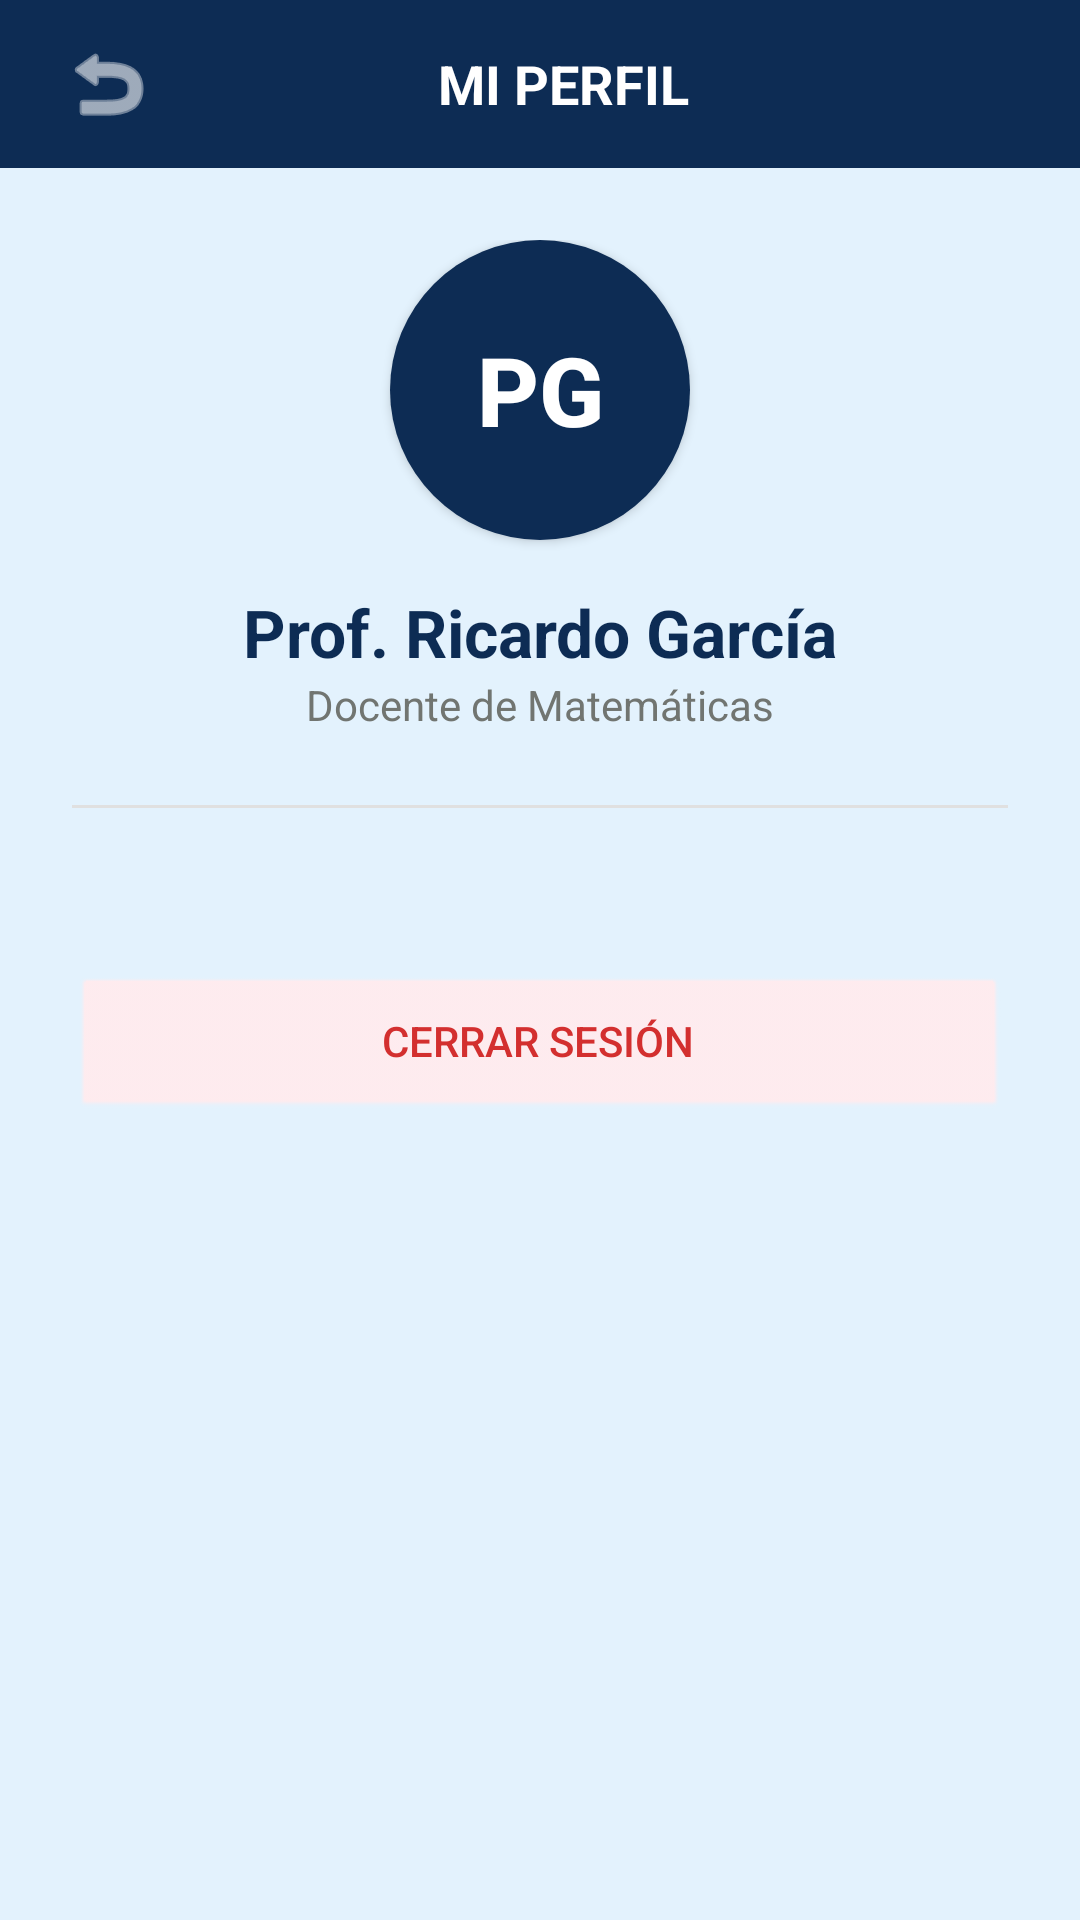

Icon bounding boxes for this 1080px×1920px phone screenshot, format (x1, y1, x2, y2):
Volver: (75, 53, 144, 116)
